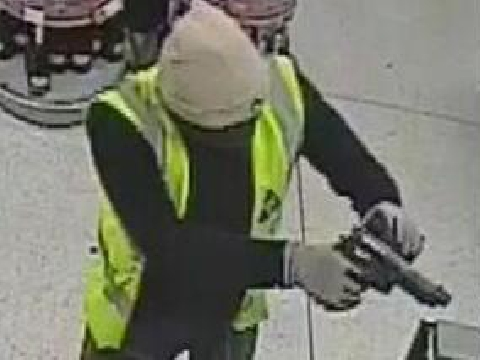pistol: (331, 226, 463, 325)
